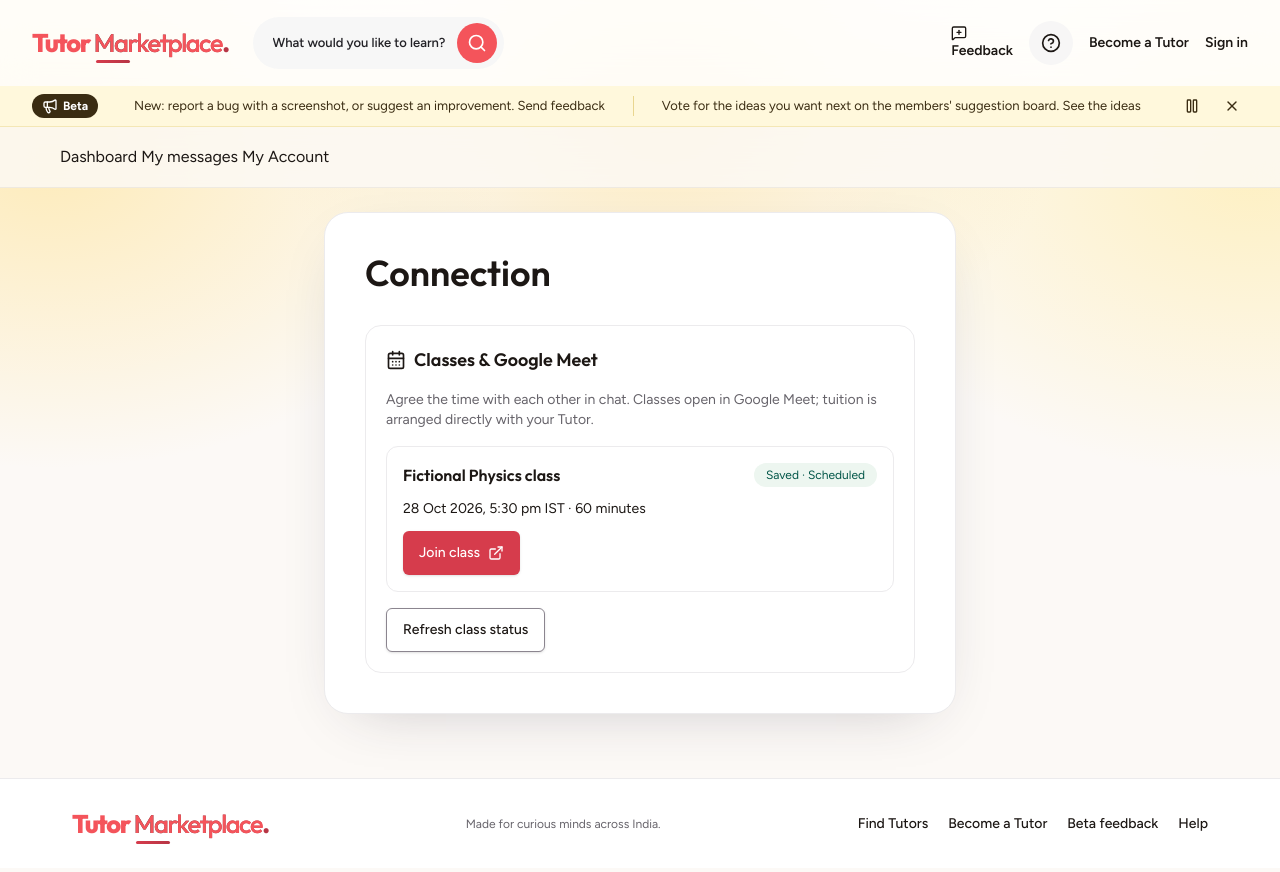
Test case: gives Learners a join action without Tutor editing controls and rechecks permission on click
Click the button "Join class" at (462, 553), box left=403, top=531, right=520, bottom=575
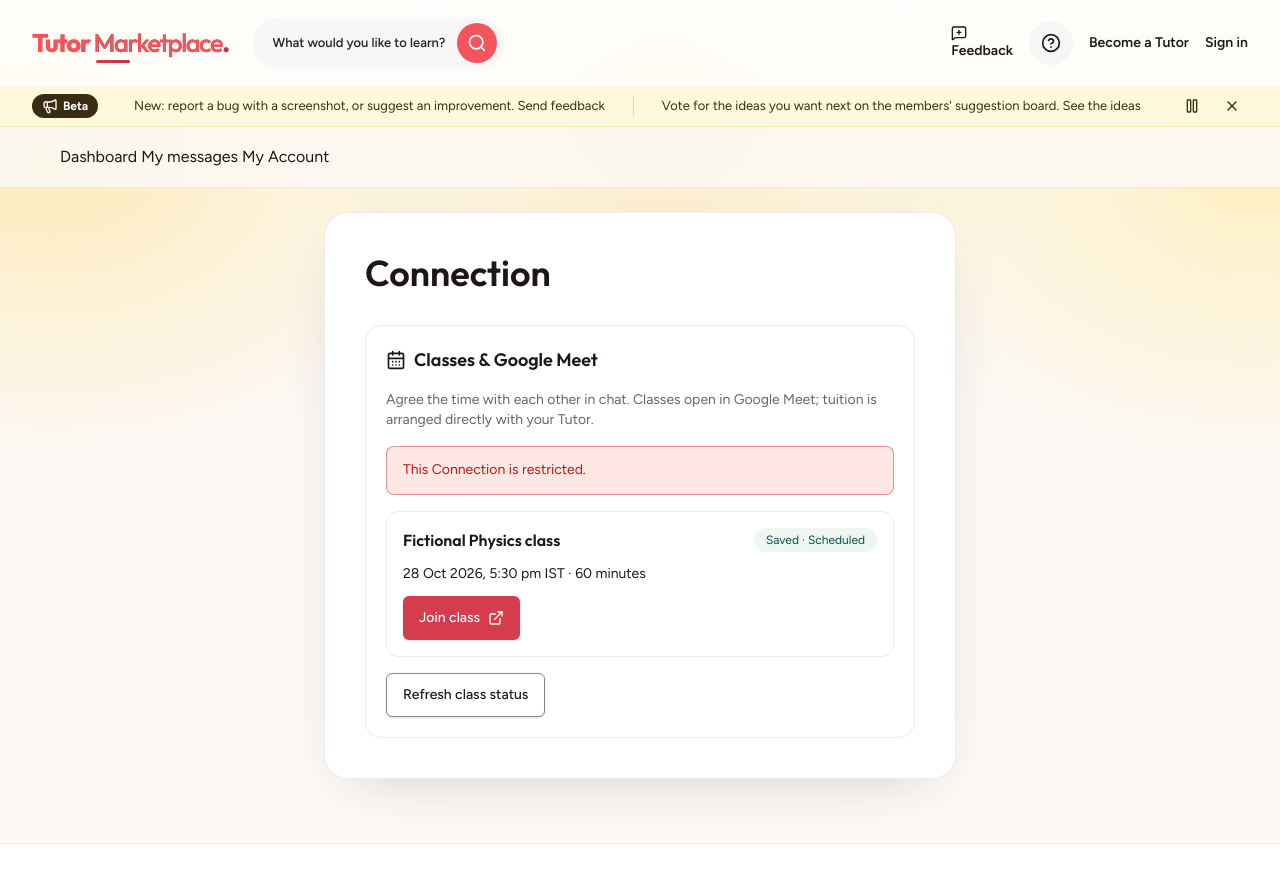
Check: the text "This Connection is restricted." is shown, box left=386, top=446, right=894, bottom=495
